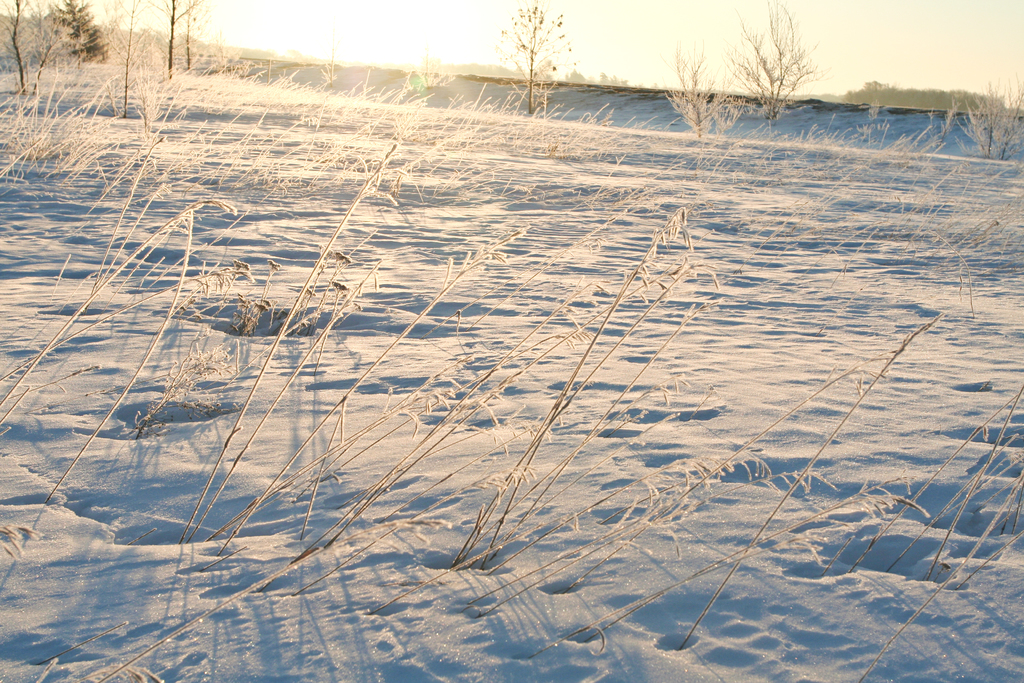Tree: (718, 0, 827, 121), (659, 30, 746, 146), (491, 8, 583, 88), (954, 67, 1023, 164), (0, 3, 62, 104), (136, 0, 208, 78), (840, 76, 1007, 105), (45, 0, 117, 64)
